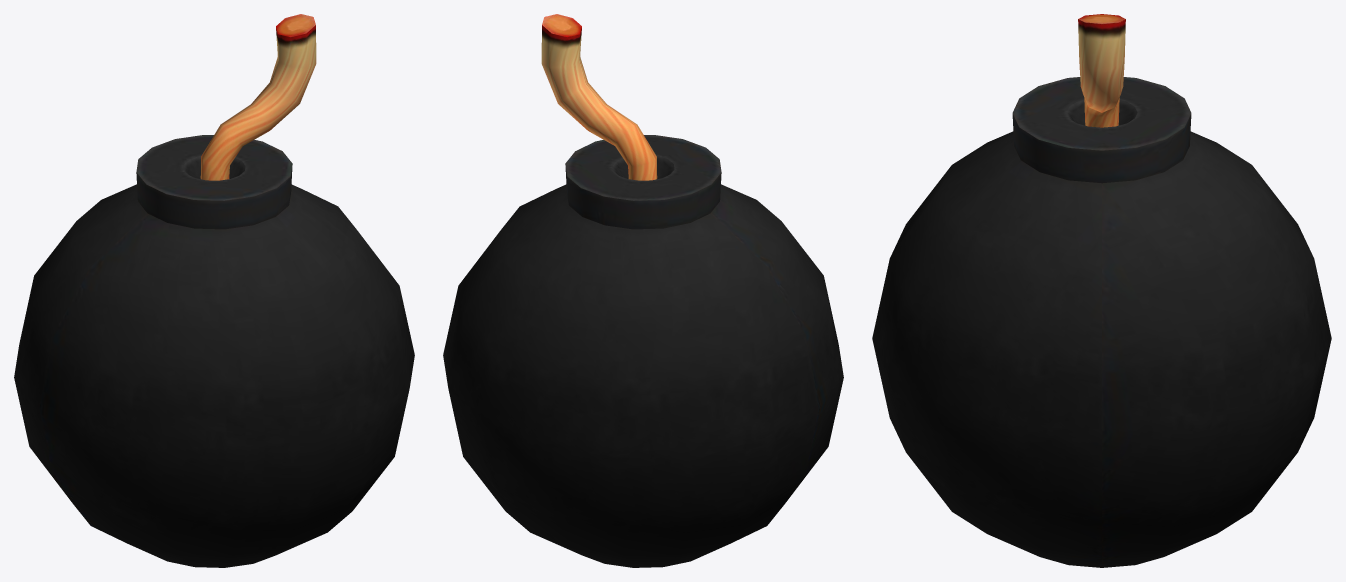
The model's file is bomb.glb.
The picture shows the model from 3 angles, left to right: view 1: azimuth 30°, elevation 25°; view 2: azimuth 150°, elevation 25°; view 3: azimuth 270°, elevation 25°; orthographic projection. The views are drawn at different scales.
Bounding box in the file's own units: 1 × 1.38 × 1.
Materials: 1 (1 with a texture image).
